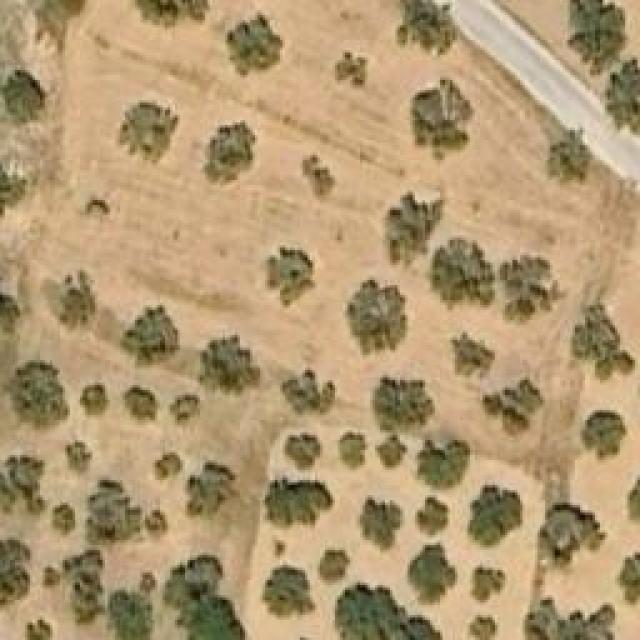Tree: (165, 552, 243, 640), (413, 78, 476, 163), (570, 305, 635, 383), (345, 278, 408, 358), (213, 13, 286, 78), (500, 255, 565, 323), (537, 503, 605, 568), (430, 237, 493, 305), (118, 103, 181, 168), (5, 363, 68, 428), (567, 0, 625, 70), (385, 193, 443, 263), (525, 595, 615, 638), (88, 478, 143, 548), (200, 333, 260, 396), (483, 378, 546, 438), (265, 478, 335, 531), (120, 305, 178, 368), (338, 585, 401, 640), (370, 370, 435, 423), (203, 123, 256, 186), (398, 0, 458, 55), (408, 543, 458, 606), (470, 485, 520, 545), (598, 58, 638, 131), (35, 0, 88, 55), (263, 563, 316, 618), (415, 440, 470, 493), (267, 248, 315, 308), (132, 0, 210, 35), (283, 370, 343, 415), (358, 495, 403, 555), (0, 455, 45, 513), (0, 70, 45, 123), (548, 133, 593, 186), (0, 532, 32, 605), (450, 332, 495, 380), (108, 590, 151, 640), (185, 467, 228, 515), (583, 413, 626, 458), (60, 273, 95, 328), (0, 163, 28, 223), (303, 155, 336, 203), (285, 432, 323, 470), (470, 565, 505, 605), (123, 385, 156, 425), (317, 550, 355, 583), (65, 433, 93, 476), (375, 435, 408, 470), (335, 50, 365, 88), (415, 497, 445, 535), (340, 430, 368, 470), (78, 383, 108, 416), (170, 395, 200, 425), (468, 615, 501, 640), (53, 503, 76, 538), (145, 510, 168, 538), (27, 617, 52, 640), (153, 455, 176, 478)
